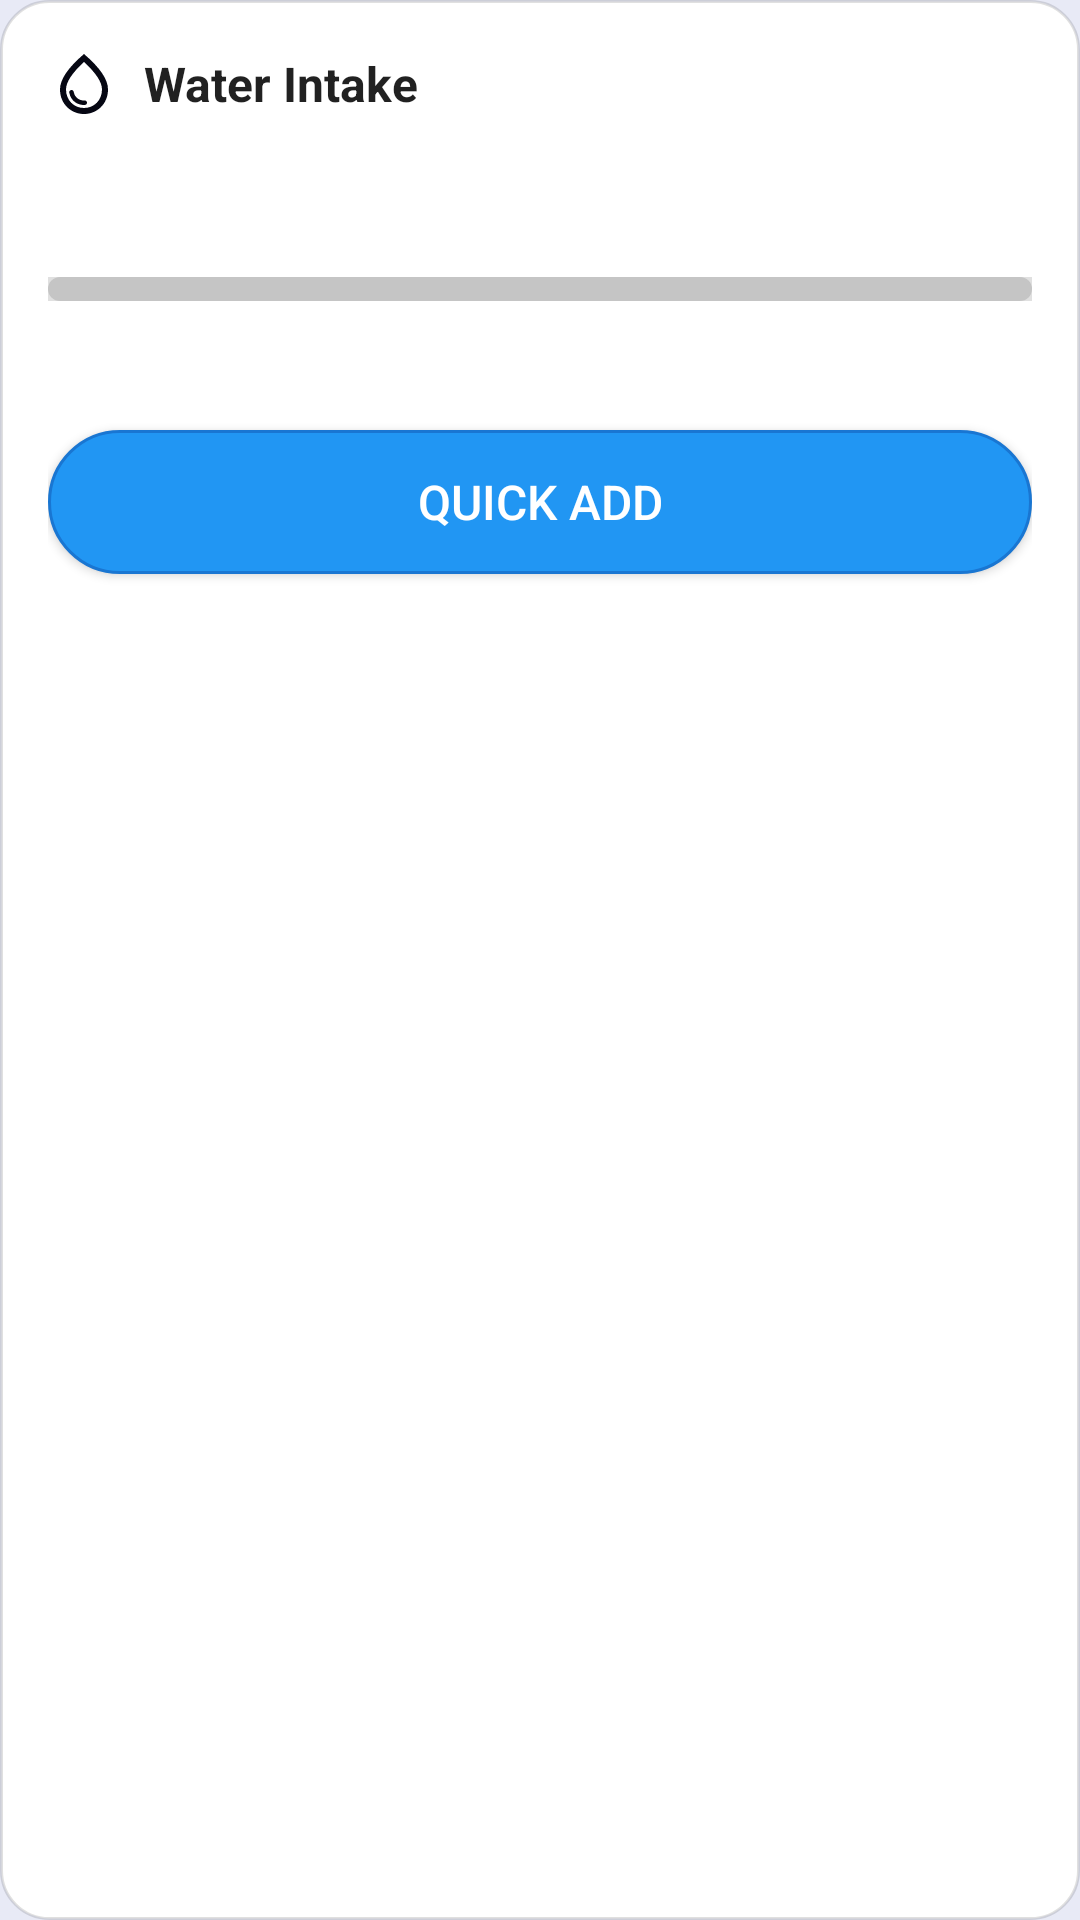

Icon bounding boxes for this 1080×1920 phone screenshot, format (x1, y1, x2, y2):
water drop: (60, 54, 108, 114)
